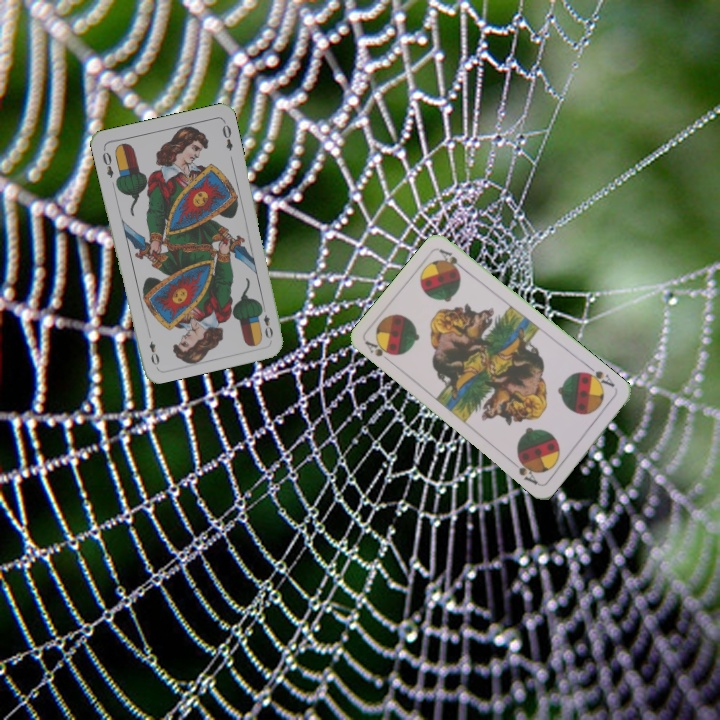EO: (256, 302, 275, 341), (98, 145, 116, 180)
SA: (361, 337, 396, 367), (581, 362, 617, 391)
